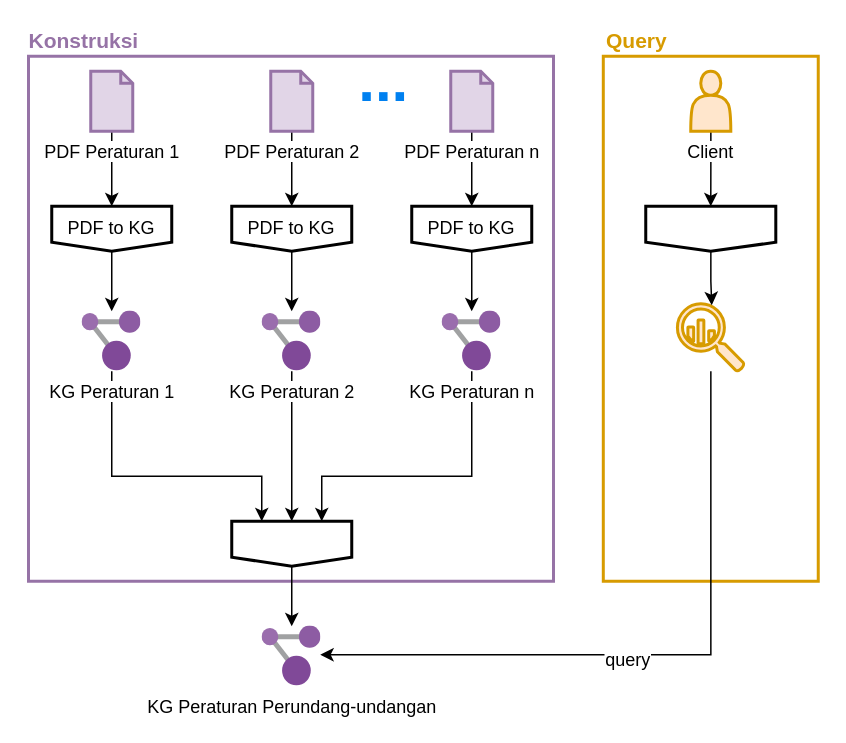
The diagram is 846 pixels wide and 743 high, and some of its shapes have lost their labels. The centre of each missing label's shape, as x and y in pixels:
"merge KG" belongs at (x=291, y=543).
"Query Builder" belongs at (x=710, y=228).
"SPARQL Query" belongs at (x=710, y=337).
